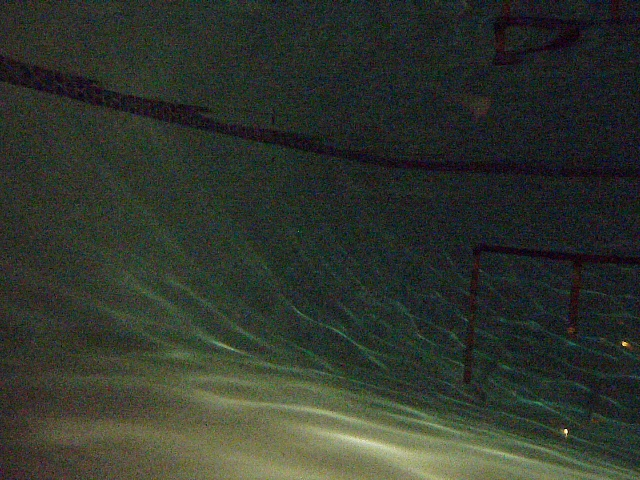Gate: (462, 253, 486, 388), (569, 262, 581, 337)
